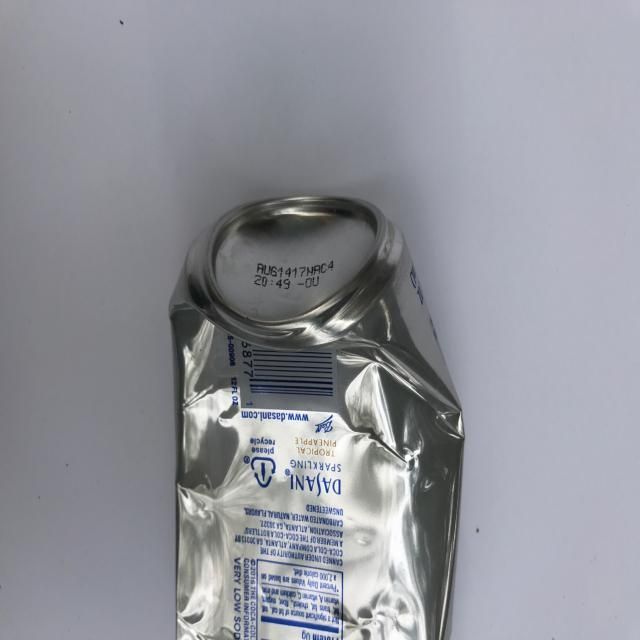metal: (164, 194, 465, 640)
